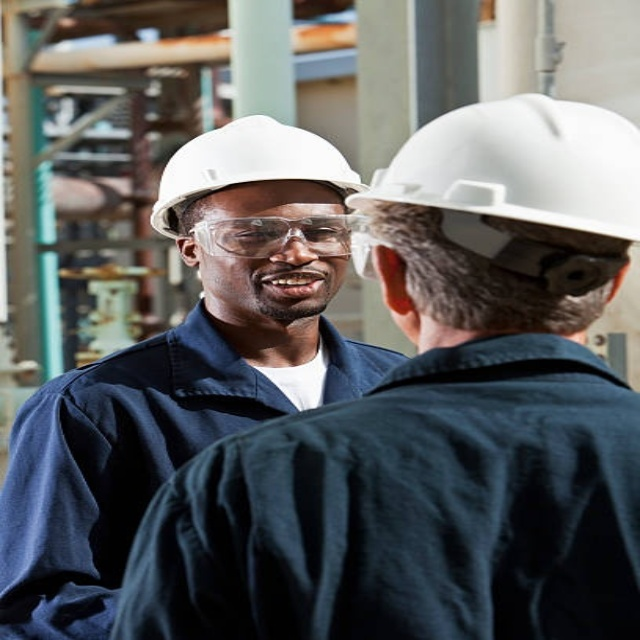Gafas: (187, 213, 347, 257), (348, 223, 389, 279)
Sin_mascara: (249, 265, 329, 305)
